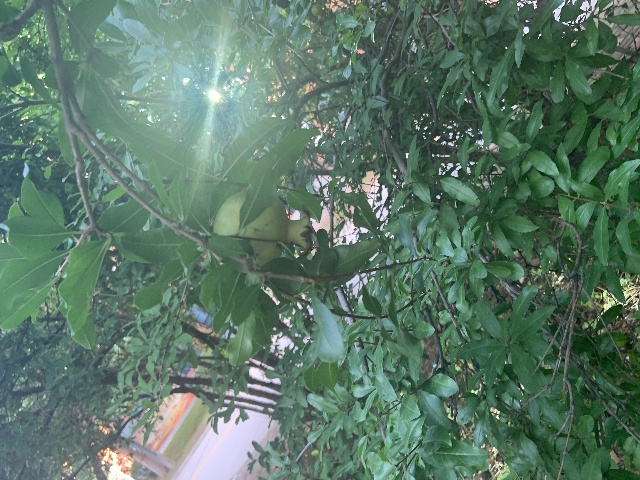mid-growth: (212, 191, 313, 267)
